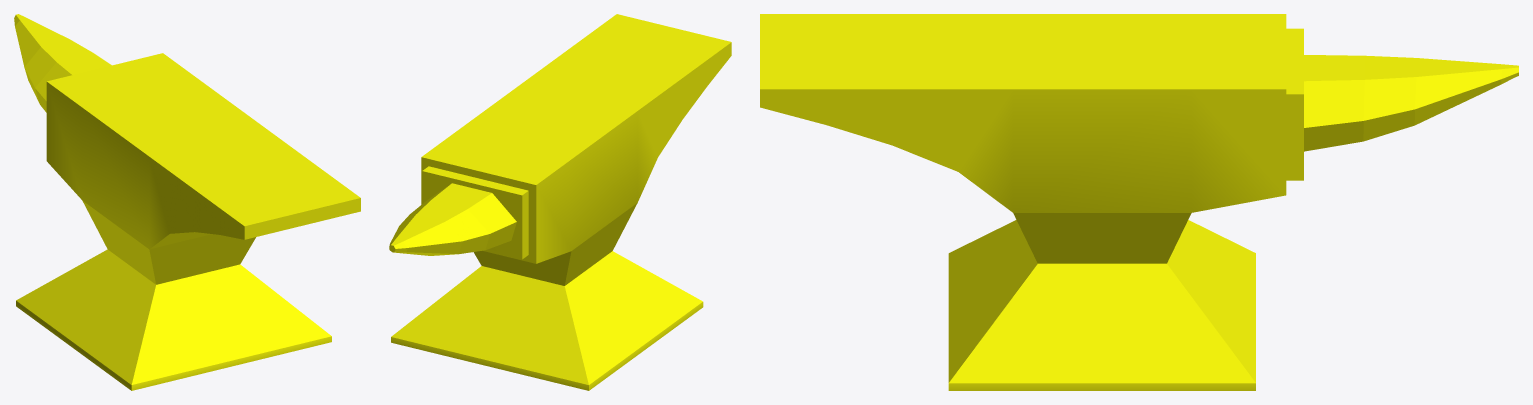
The model's file is ANVIL.fbx.
3 renders of one model, left to right at view 1: azimuth 30°, elevation 25°; view 2: azimuth 150°, elevation 25°; view 3: azimuth 270°, elevation 25°, orthographic. The views are drawn at different scales.
Parts seen in each view (by area): view 1: ANVIL; view 2: ANVIL; view 3: ANVIL.
Boxes of the visible parts, x1,y1,x2,y2 form: ANVIL: (14, 14, 360, 390); ANVIL: (389, 14, 731, 390); ANVIL: (760, 14, 1518, 390).
Bounding box in the file's own units: 23.23 × 22.87 × 57.34.
